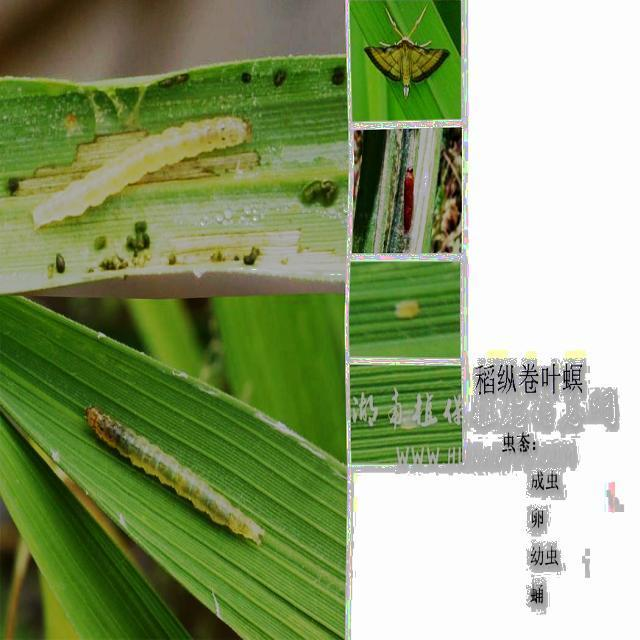leaf-folder: (63, 384, 295, 576), (17, 104, 255, 232), (392, 160, 422, 234), (385, 273, 429, 323)
